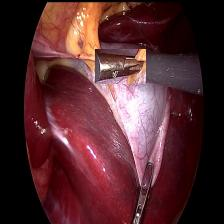Grasper: (127, 155, 158, 223), (94, 48, 144, 82)
